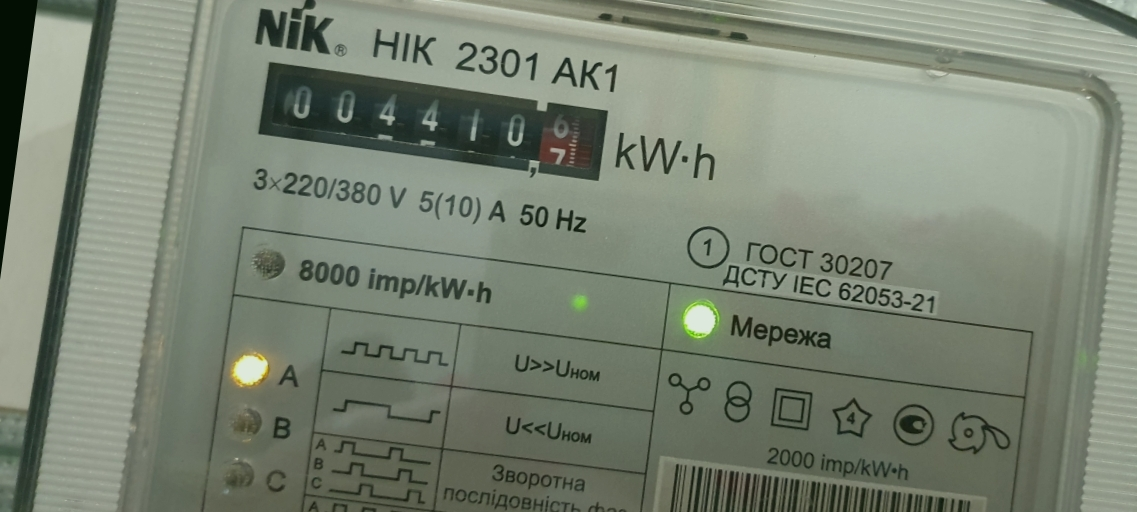0: (289, 80, 315, 121), (504, 110, 528, 148), (334, 84, 356, 125)
1: (464, 104, 483, 143)
4: (417, 94, 444, 135), (375, 87, 401, 127)
6: (552, 111, 572, 139)
7: (546, 144, 567, 165)
screen: (245, 47, 622, 194)
